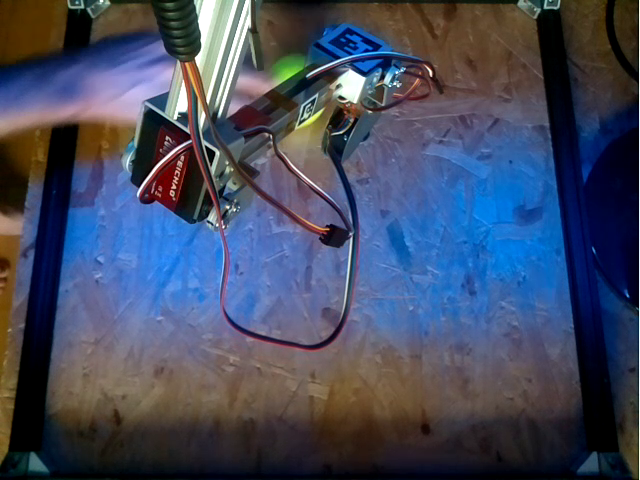tennis_ball: (269, 54, 308, 82)
